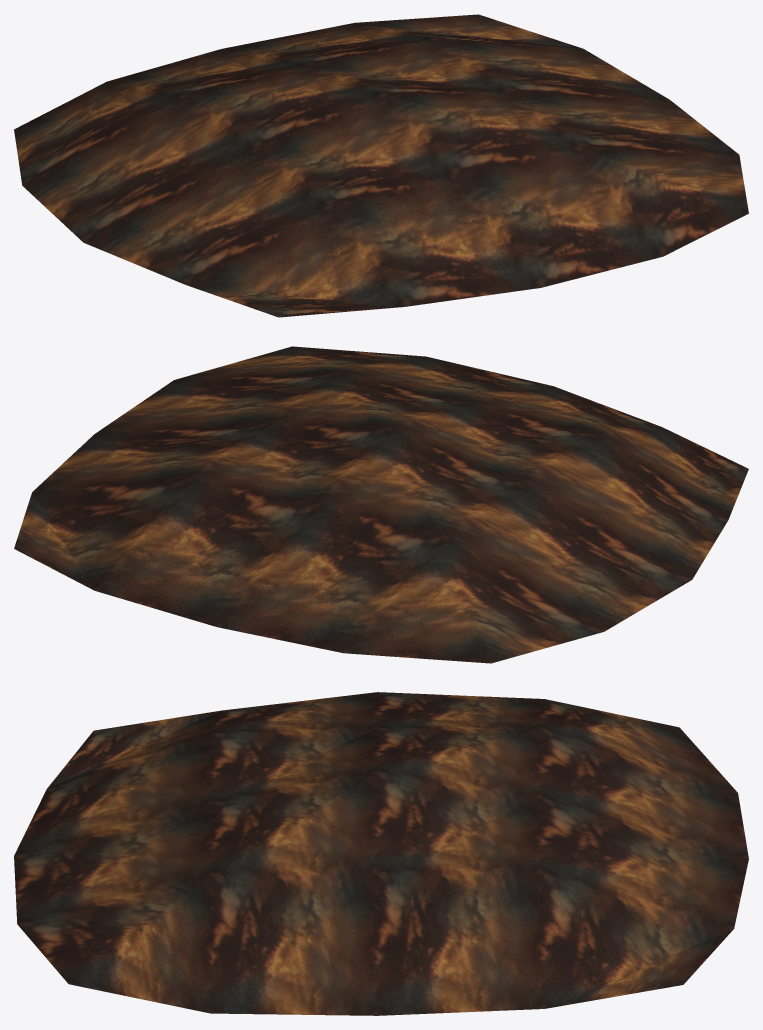
Rendered from sky.obj.
3 views of the same model, one above another, from view 1: azimuth 30°, elevation 25°; view 2: azimuth 150°, elevation 25°; view 3: azimuth 270°, elevation 25° (orthographic). The views are drawn at different scales.
Visible parts, largest first — view 1: sky_braun1; view 2: sky_braun1; view 3: sky_braun1.
Part boxes in pixels (x1,y1,x2,y2): sky_braun1: (14, 14, 748, 317); sky_braun1: (14, 346, 748, 663); sky_braun1: (14, 692, 748, 1015).
Size of the model in its own units: 8838 by 1089 by 8479.
Materials: 1 (1 with a texture image).
